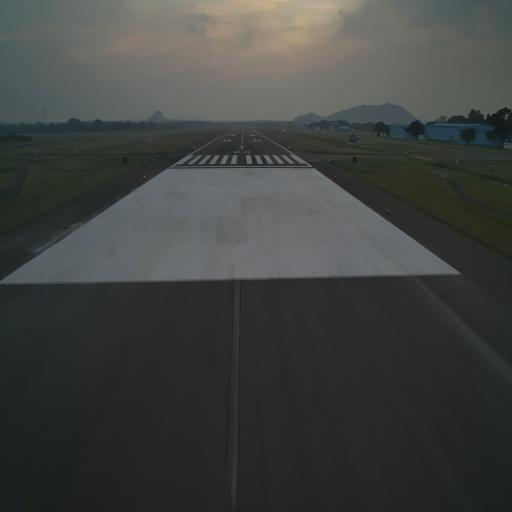off: (85, 207, 90, 217)
on: (386, 203, 390, 216), (143, 174, 146, 180), (334, 173, 337, 179)
